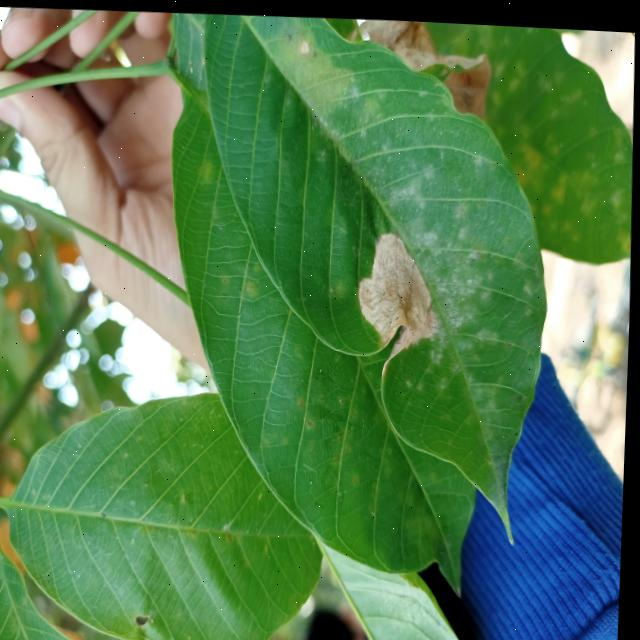Leaf-Blight: (355, 225, 442, 374), (359, 15, 486, 68), (440, 45, 493, 117)
